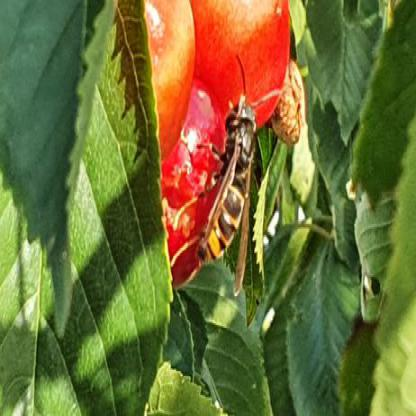Asian Hornet: (196, 56, 286, 300)
